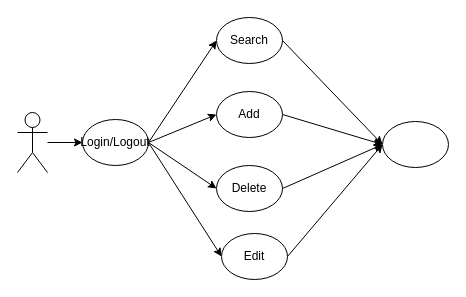
The diagram is 466 pixels wide and 297 high, and some of its shapes have lost their labels. The centre of each missing label's shape, as x and y in pixels:
"Actor" goes at (x=32, y=142).
"Course" goes at (x=415, y=144).
